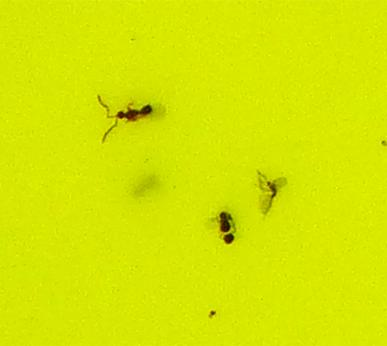Brachycera: (212, 208, 240, 246)
Hymenoptera: (100, 100, 162, 138)
Nematocera: (256, 167, 287, 216)
